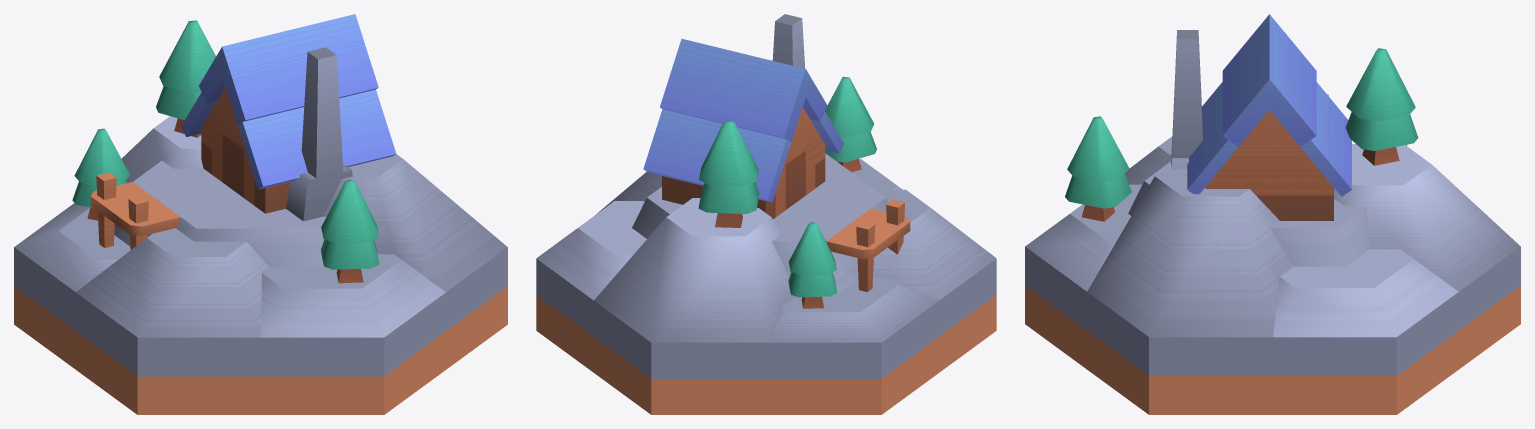
The model's file is building-cabin.glb.
3 renders of one model, left to right at view 1: azimuth 30°, elevation 25°; view 2: azimuth 150°, elevation 25°; view 3: azimuth 270°, elevation 25°, orthographic. The views are drawn at different scales.
Parts seen in each view (by area): view 1: building-cabin; view 2: building-cabin; view 3: building-cabin.
Part boxes in pixels (x1=…): building-cabin: x1=14, y1=14, x2=507, y2=414; building-cabin: x1=536, y1=14, x2=996, y2=414; building-cabin: x1=1025, y1=14, x2=1520, y2=414.
Bounding box in the file's own units: 10 × 7.68 × 11.55.
Materials: 1 (1 with a texture image).
